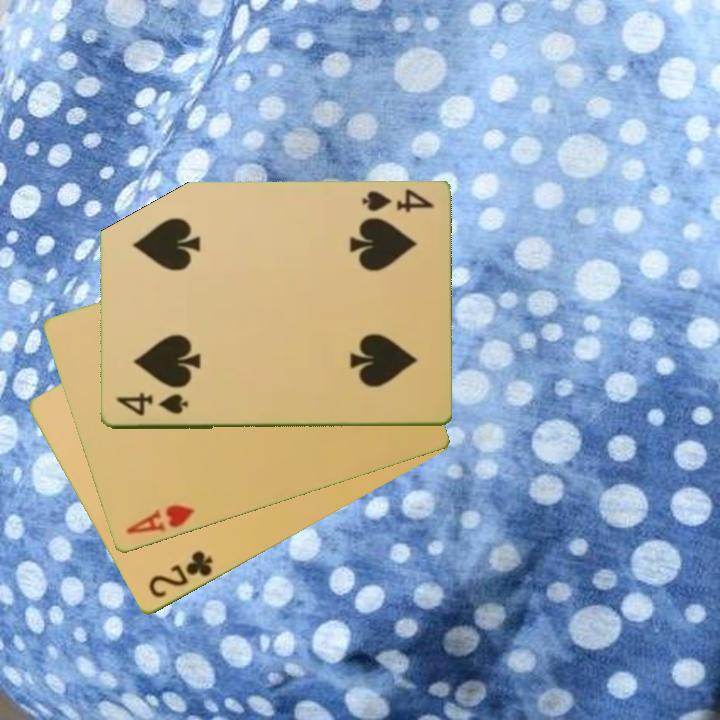2c: (144, 547, 216, 602)
4s: (358, 186, 436, 216), (113, 391, 191, 419)
Ah: (122, 501, 197, 538)
